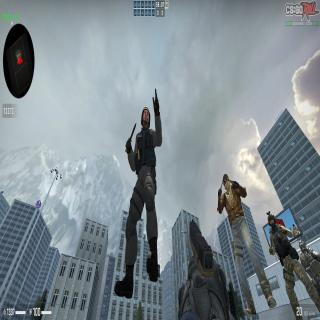CT-Body: (113, 105, 163, 299), (268, 212, 320, 320), (298, 240, 320, 293)
CT-Head: (140, 106, 150, 130), (267, 211, 277, 231), (299, 237, 307, 256)
T-Body: (217, 173, 267, 317)
T-Head: (222, 172, 230, 192)
